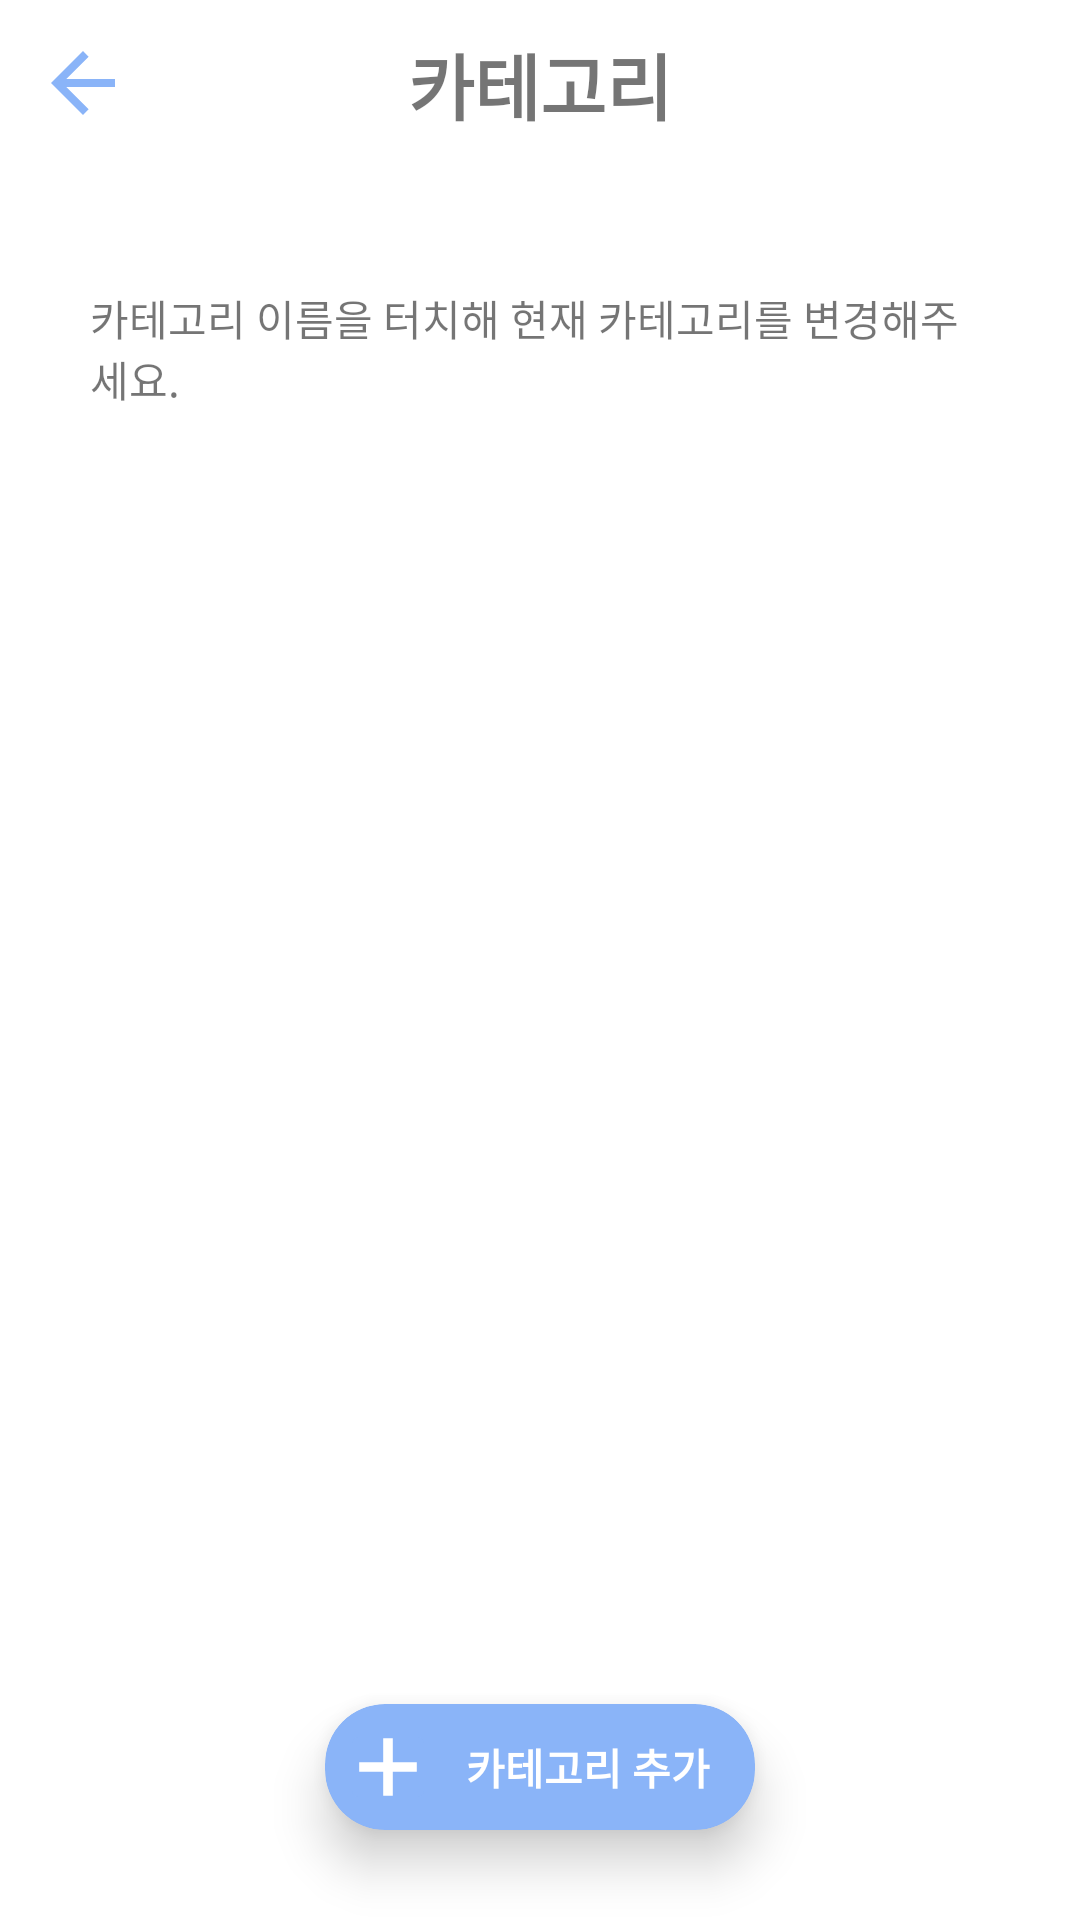

Where to tap for icons on this 1080 × 1920 app screen, as (x,y):
add: (388,1767)
arrow back: (83,83)
